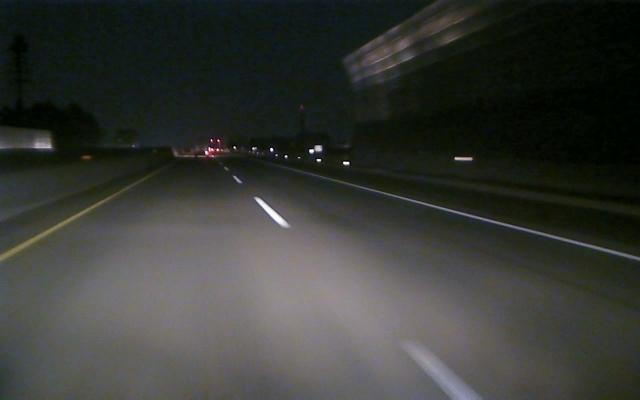lane: (232, 176, 483, 400), (350, 183, 639, 262), (0, 184, 136, 264)
